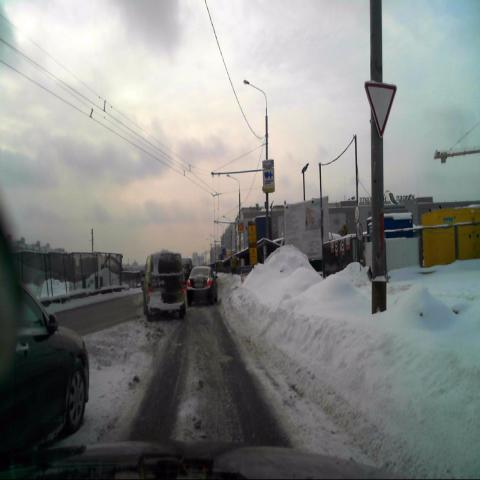2_4: (365, 79, 399, 138)
